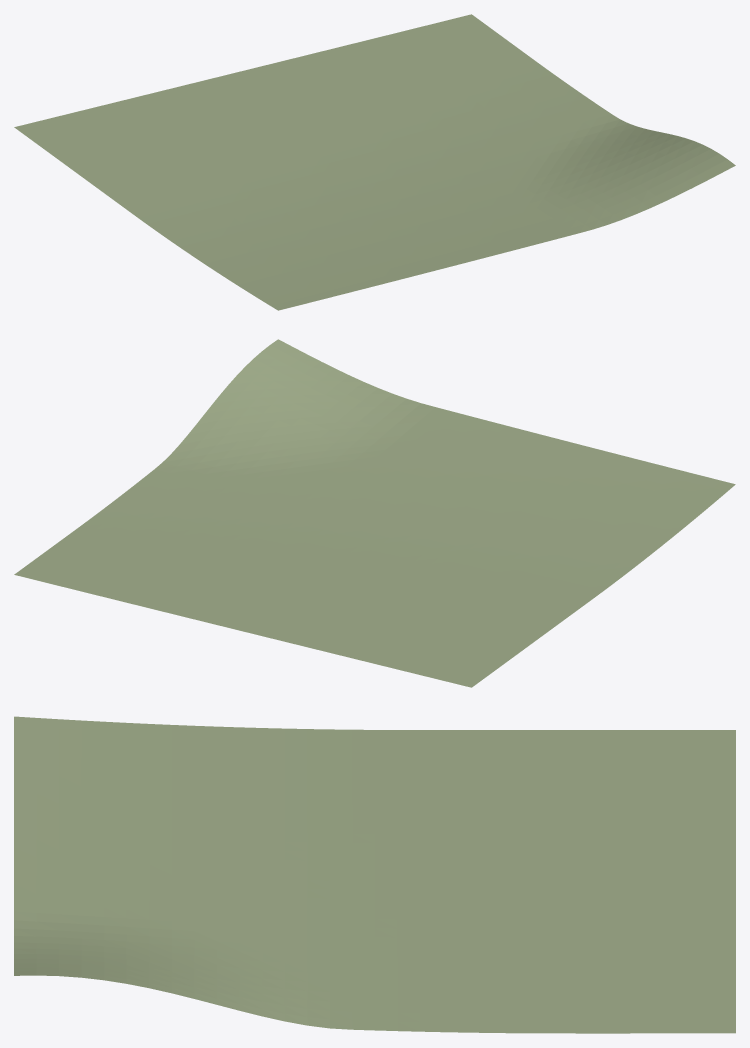
The model's file is desert-7-25.glb.
The picture shows the model from 3 angles, top to bottom: view 1: azimuth 30°, elevation 25°; view 2: azimuth 150°, elevation 25°; view 3: azimuth 270°, elevation 25°; orthographic projection. The views are drawn at different scales.
Parts seen in each view (by area): view 1: desert-7-25; view 2: desert-7-25; view 3: desert-7-25.
Boxes of the visible parts, box(x1,y1,x2,y2) form: desert-7-25: box(14, 14, 735, 310); desert-7-25: box(14, 339, 735, 687); desert-7-25: box(14, 716, 735, 1033).
Bounding box in the file's own units: 512 × 46.72 × 512.
